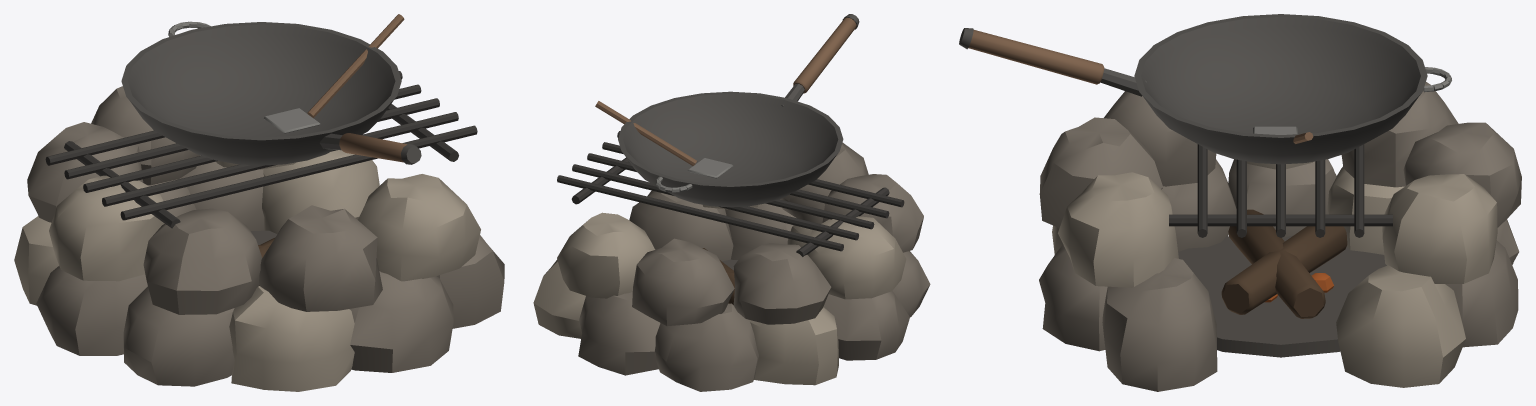
The picture shows the model from 3 angles, left to right: view 1: azimuth 30°, elevation 25°; view 2: azimuth 150°, elevation 25°; view 3: azimuth 270°, elevation 25°; orthographic projection. The views are drawn at different scales.
Visible parts, largest first — view 1: C14_stove, C14_wok; view 2: C14_stove, C14_wok; view 3: C14_stove, C14_wok.
Boxes of the visible parts, <box> form: C14_stove: <box>14,71,504,391</box>; C14_wok: <box>121,14,421,165</box>; C14_stove: <box>533,131,930,391</box>; C14_wok: <box>595,14,859,207</box>; C14_stove: <box>1039,82,1521,391</box>; C14_wok: <box>959,14,1451,164</box>.
Size of the model in its own units: 0.8501 by 0.5362 by 1.01.
